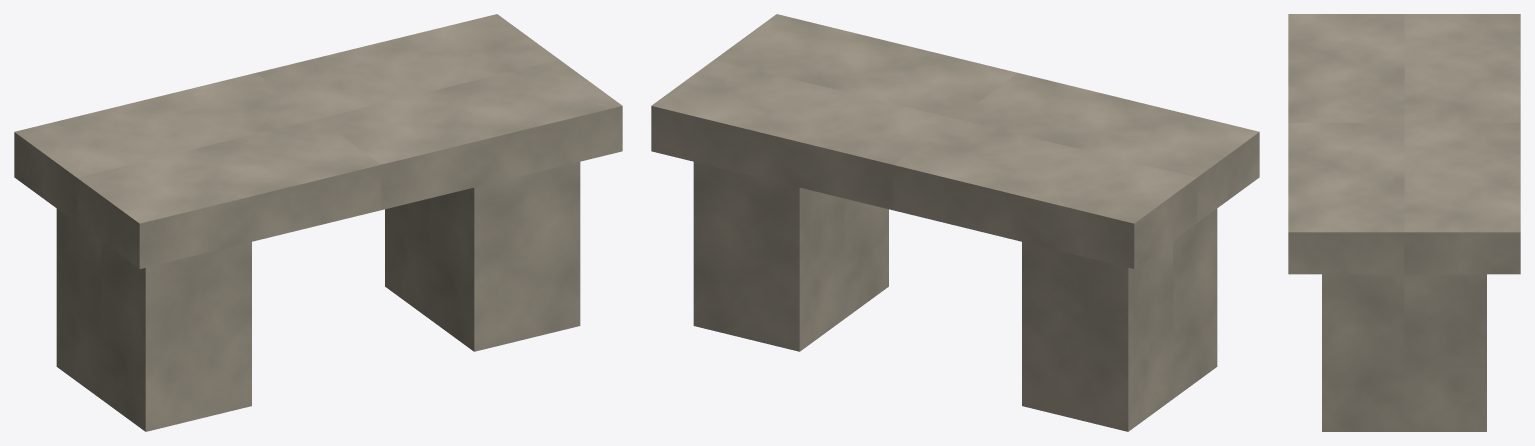
The model's file is Table_Stone_1_LOD2.gltf.
3 views of the same model, side by side, from view 1: azimuth 30°, elevation 25°; view 2: azimuth 150°, elevation 25°; view 3: azimuth 270°, elevation 25° (orthographic). The views are drawn at different scales.
Visible parts, largest first — view 1: Table_Stone_1_LOD2; view 2: Table_Stone_1_LOD2; view 3: Table_Stone_1_LOD2.
Boxes of the visible parts, left/top/right/bottom form: Table_Stone_1_LOD2: left=14, top=14, right=622, bottom=431; Table_Stone_1_LOD2: left=651, top=14, right=1259, bottom=431; Table_Stone_1_LOD2: left=1288, top=14, right=1520, bottom=431.
Size of the model in its own units: 2 by 0.9 by 0.9.
Materials: 1 (1 with a texture image).
